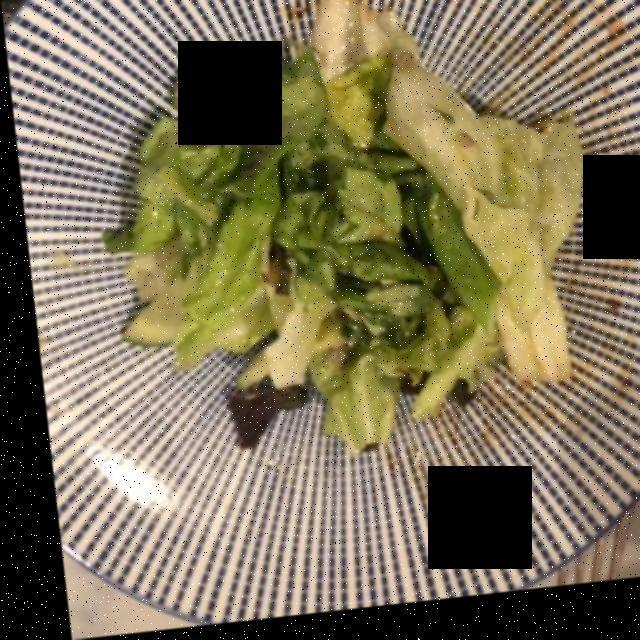salad: (112, 3, 565, 450)
